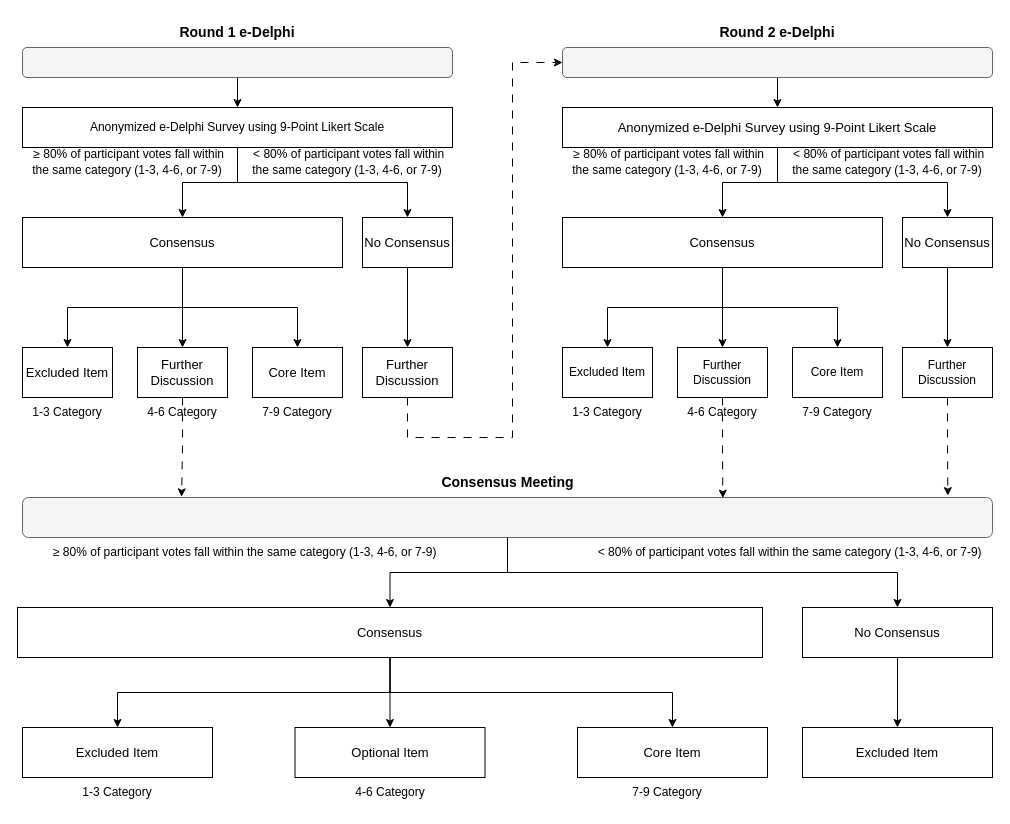
The diagram is 1010 pixels wide and 824 high, and some of its shapes have lost their labels. The shapes that lost their labels are listed below. From the top down, each one's centre as x and y in pixels, then its label:
the point at 237,62: Review of Initial Candidate Items
the point at 777,62: Review or New and Non-Consensus Items
the point at 507,517: In-Person or Hybrid Delphi Survey using a 9-Point Likert Scale
